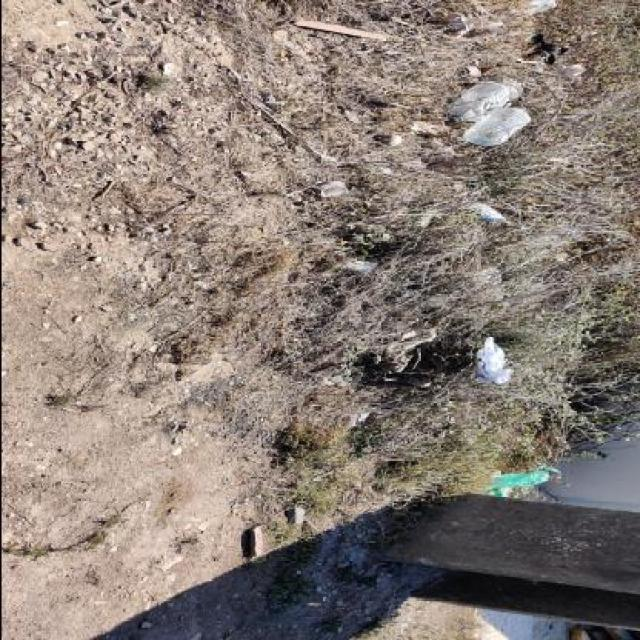cardboard: (310, 180, 348, 197)
plastic: (443, 77, 520, 123), (461, 106, 530, 146), (467, 336, 516, 386), (480, 468, 563, 497)
